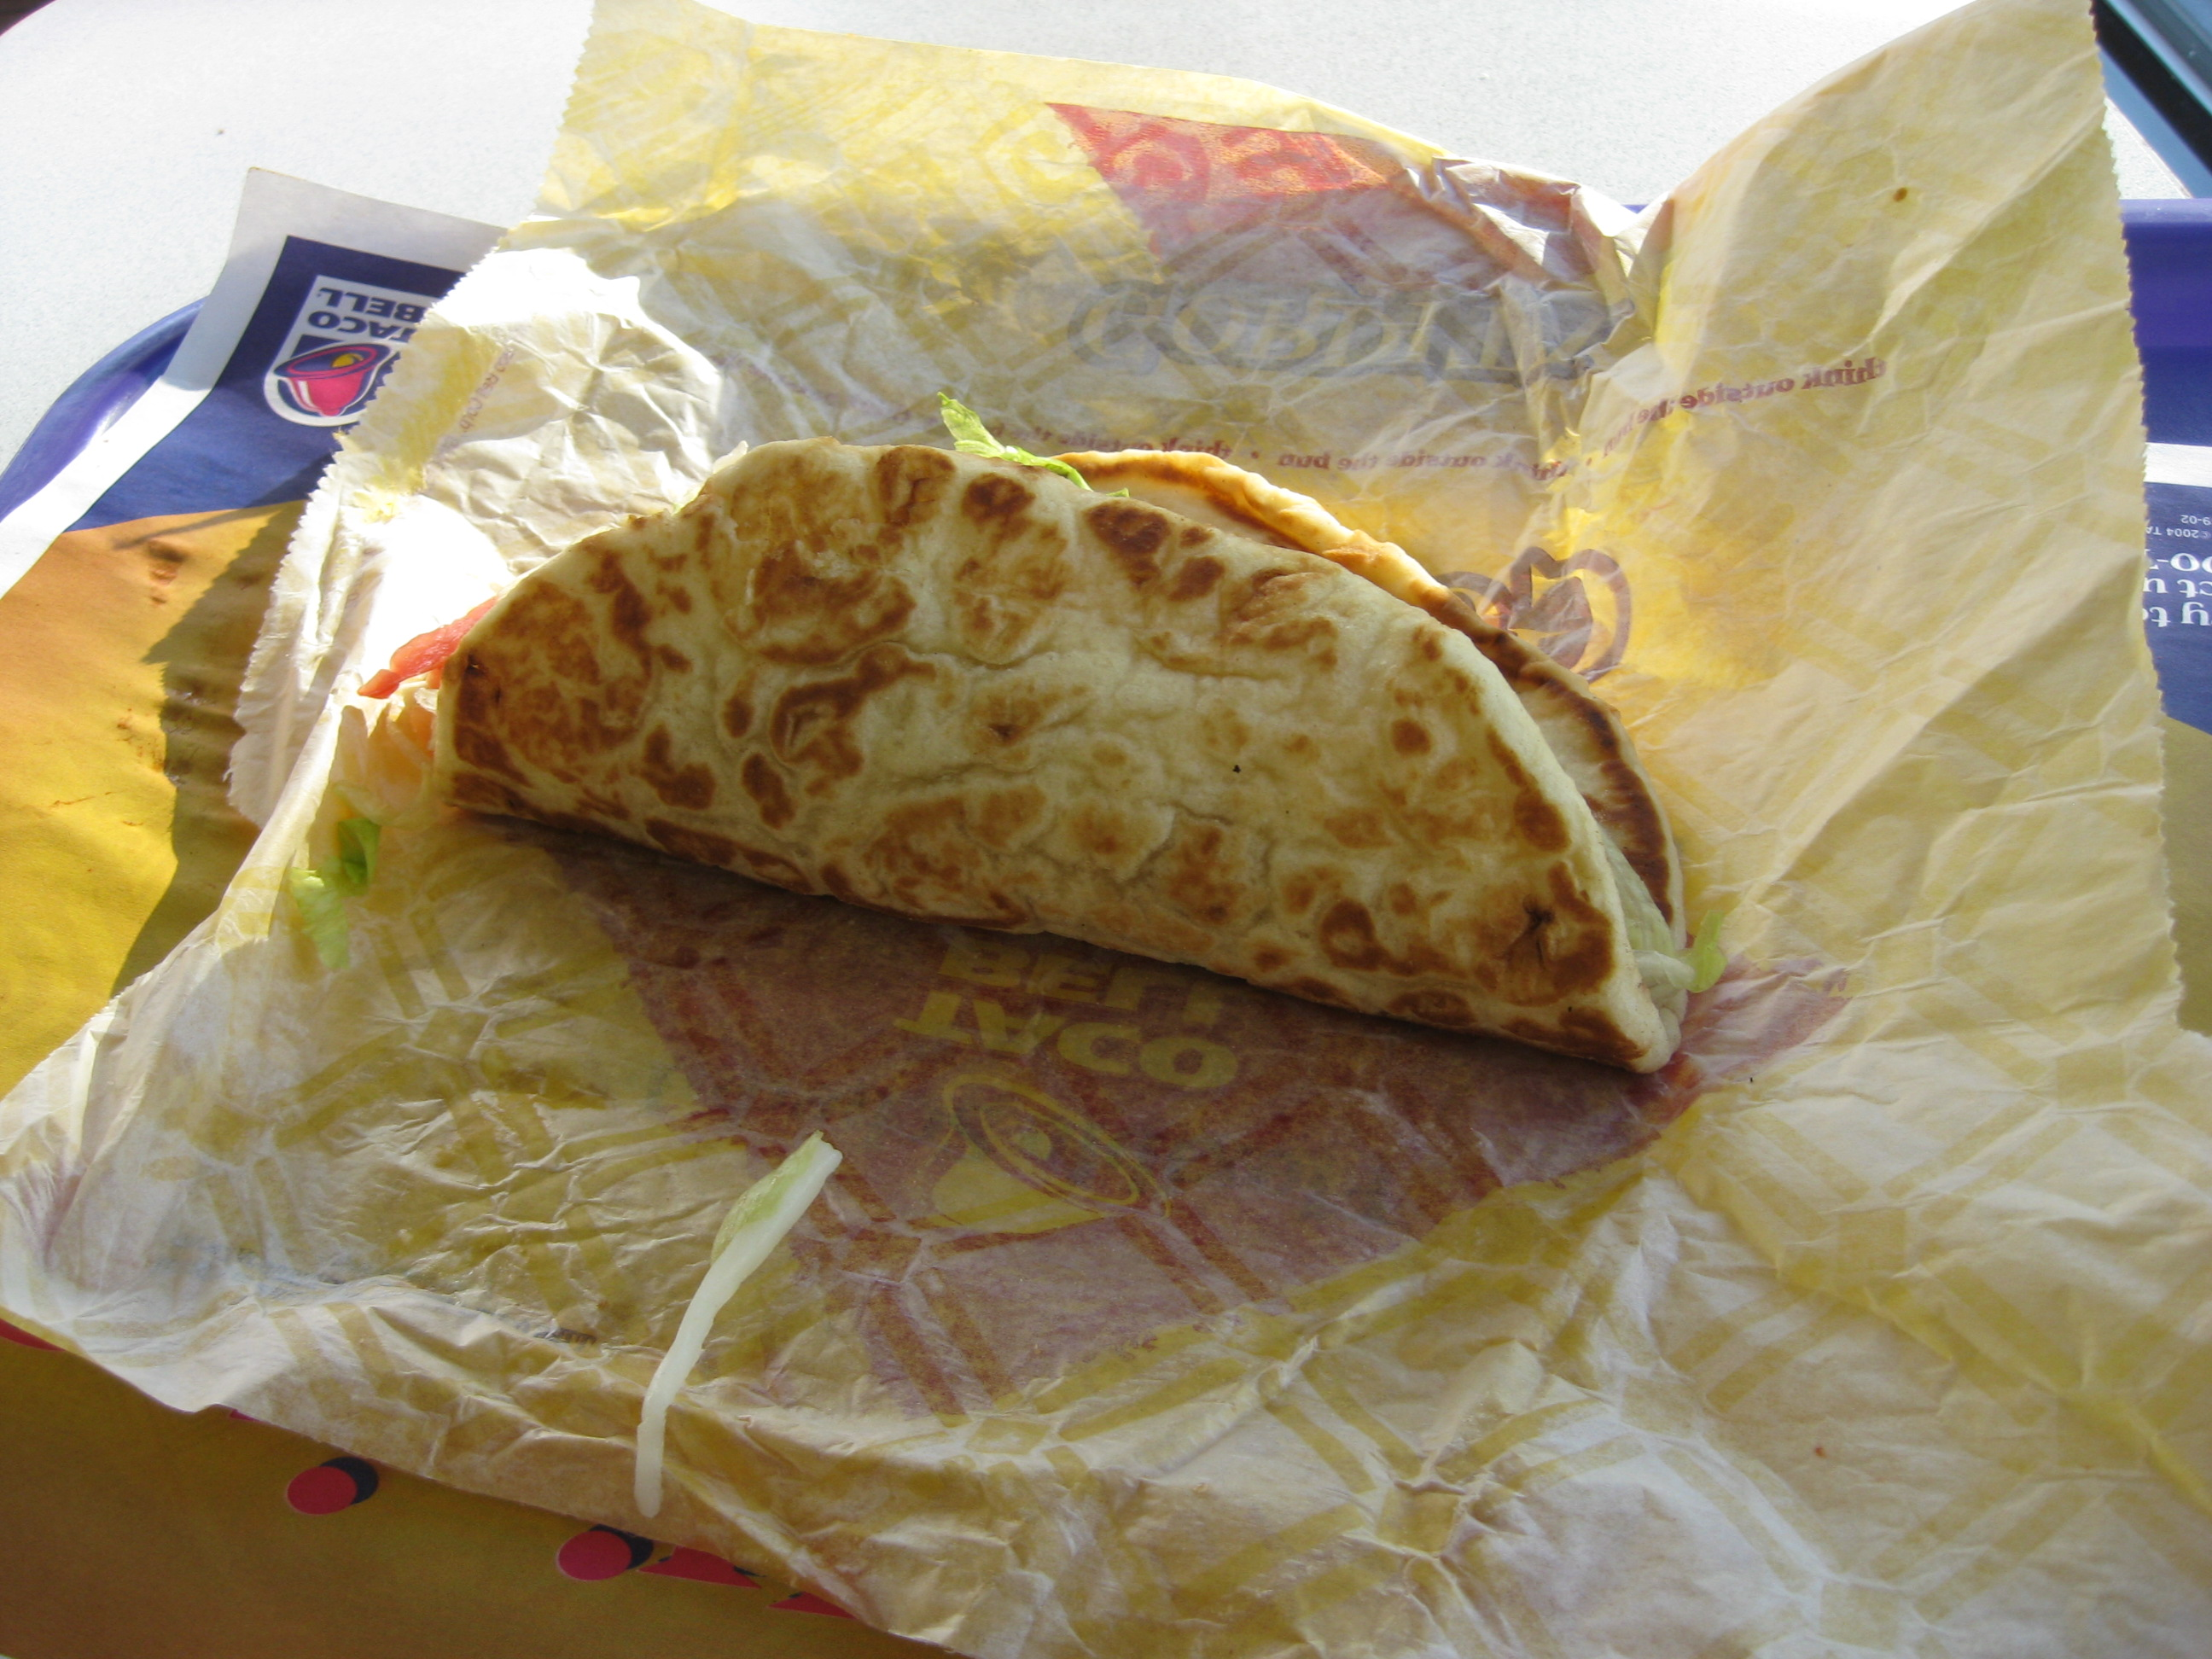taco: (445, 377, 1802, 1134)
